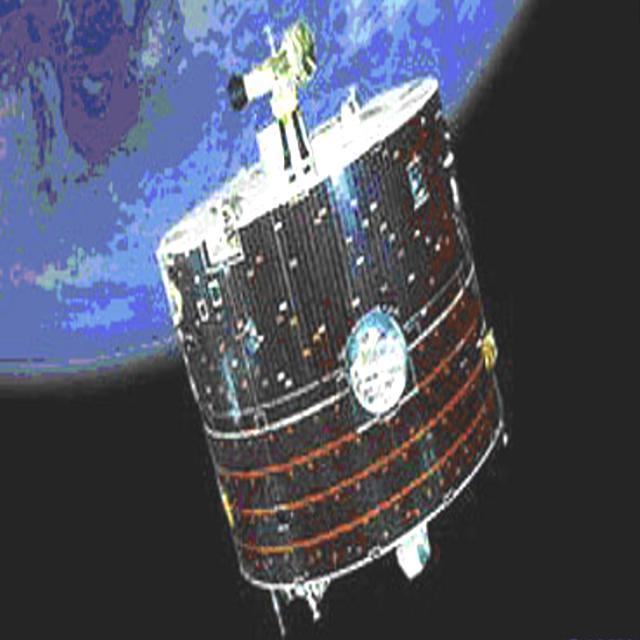medium_debris: (154, 14, 521, 640)
